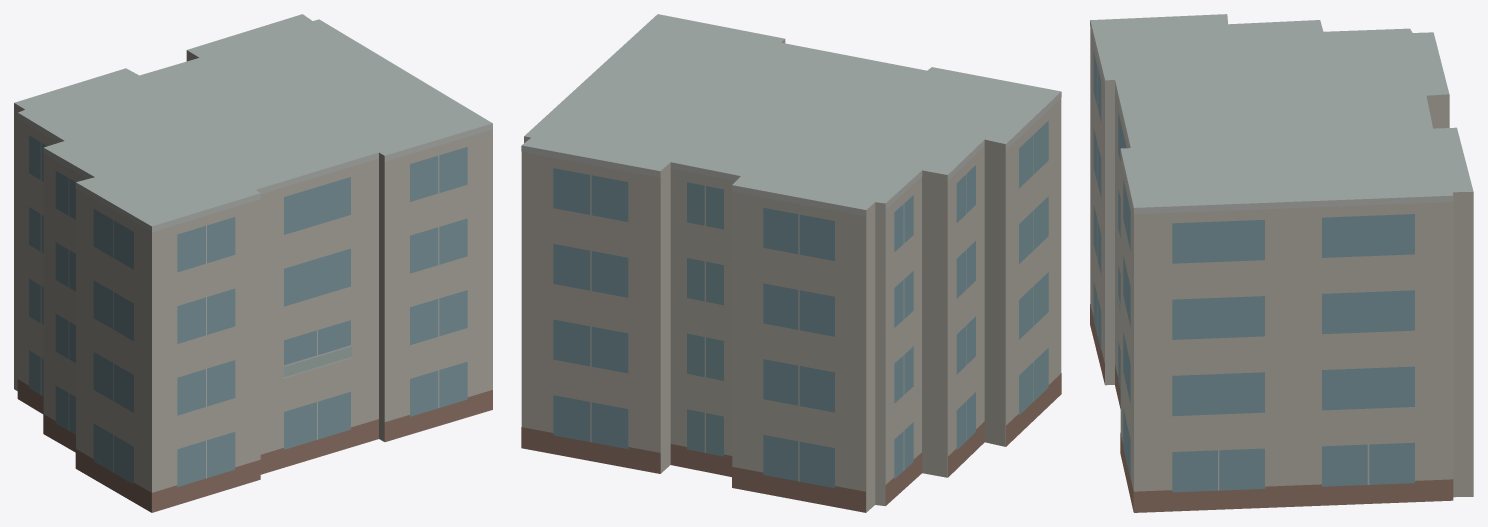
File: survey-upis-32563046.glb
3 views of the same model, side by side, from view 1: azimuth 30°, elevation 25°; view 2: azimuth 150°, elevation 25°; view 3: azimuth 270°, elevation 25° (orthographic). The views are drawn at different scales.
Parts seen in each view (by area): view 1: survey-upis-32563046.tmp; view 2: survey-upis-32563046.tmp; view 3: survey-upis-32563046.tmp.
Part boxes in pixels (x1,y1,x2,y2): survey-upis-32563046.tmp: [14, 14, 492, 512]; survey-upis-32563046.tmp: [521, 14, 1061, 512]; survey-upis-32563046.tmp: [1090, 14, 1473, 512].
Size of the model in its own units: 16.1 by 11.8 by 13.45.
